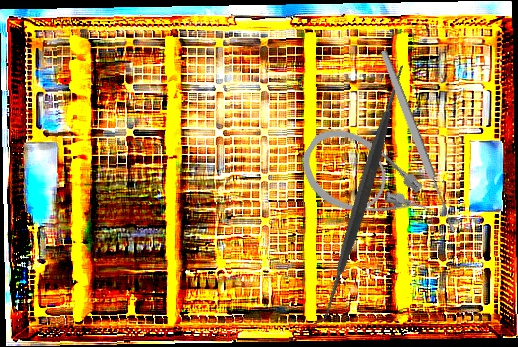Cannula: (288, 114, 445, 253)
Spatula Surgical: (230, 59, 496, 327)
Surgical Spoon: (378, 48, 458, 235)
